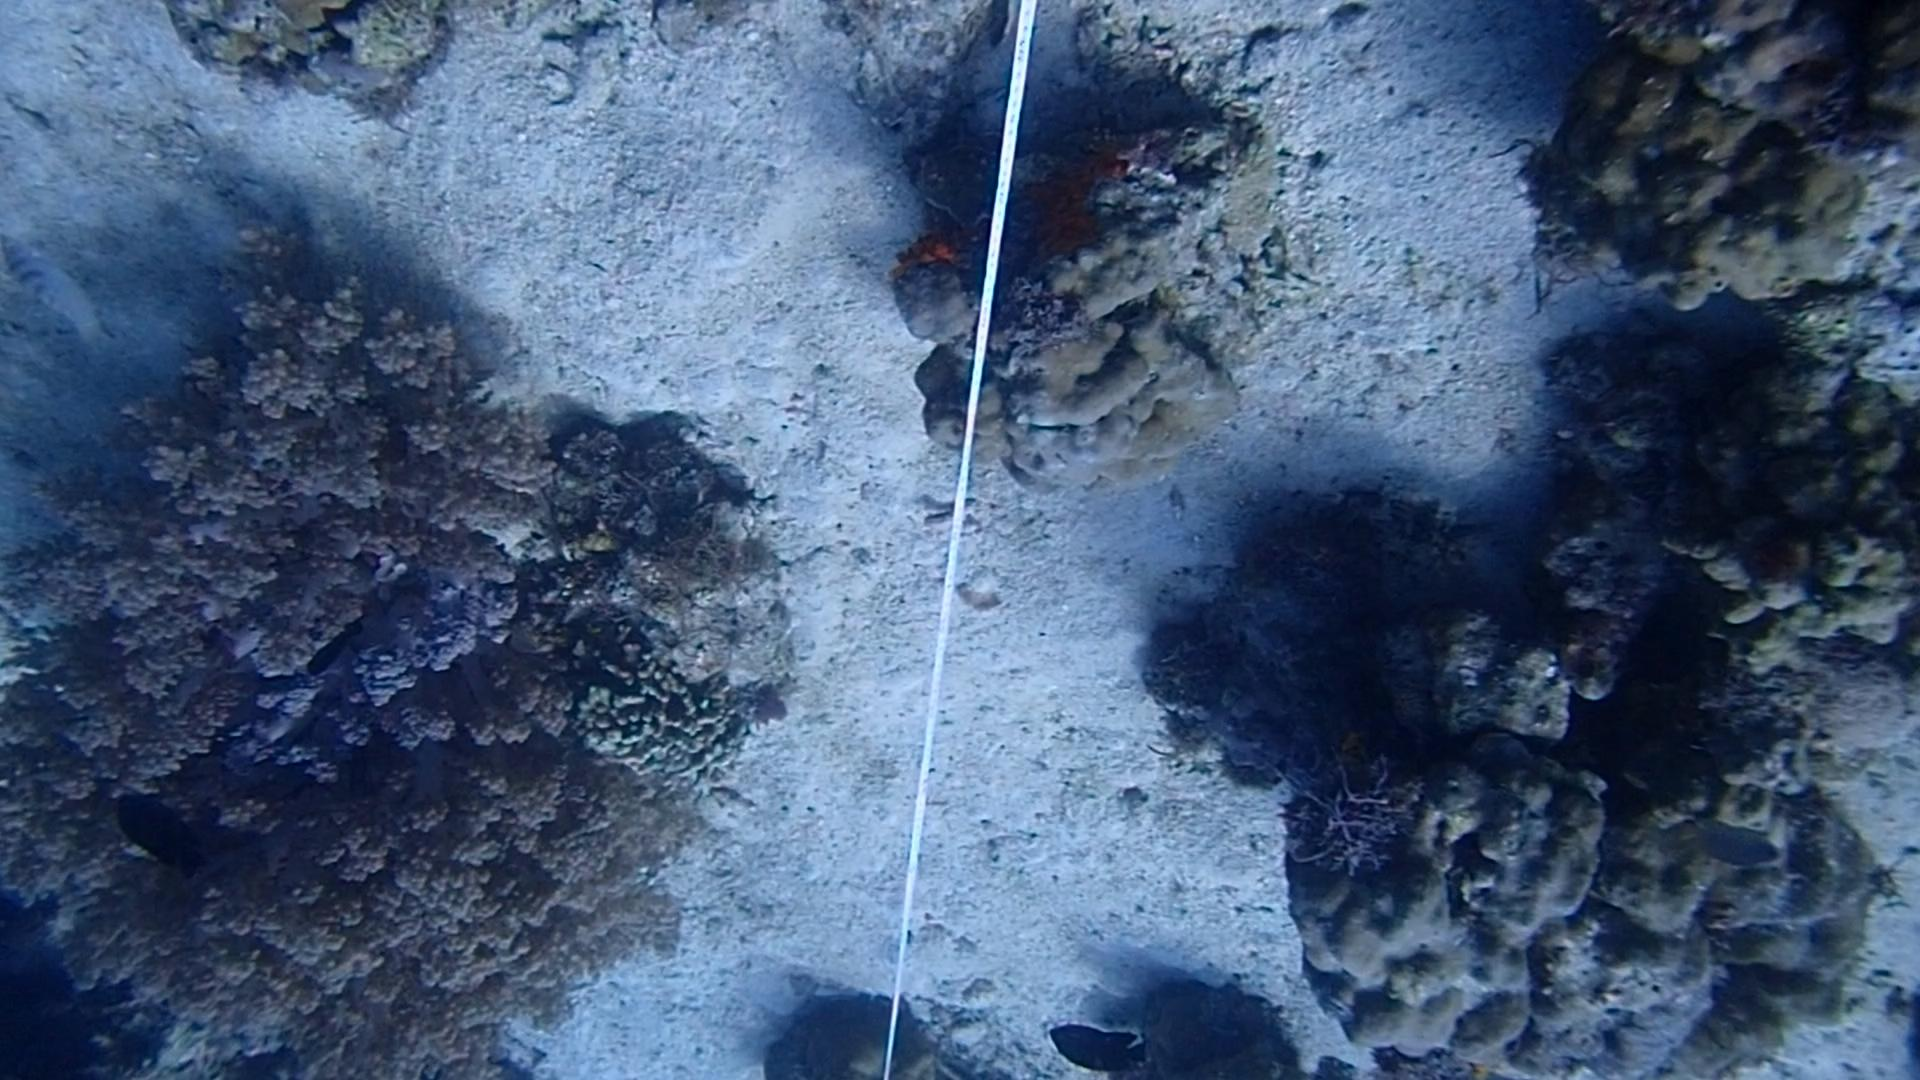Dark Fish: (104, 789, 211, 881), (1040, 1007, 1158, 1080), (299, 622, 375, 680)
Light Fish w Back Stripes: (0, 224, 105, 340)
